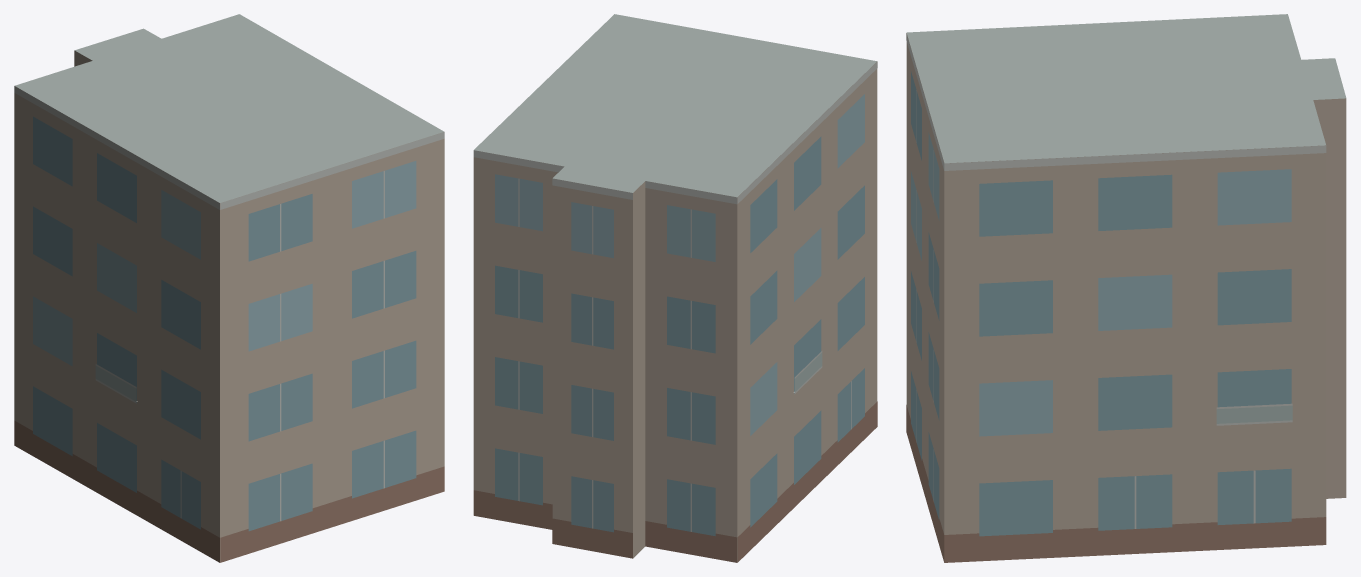
The model's file is survey-upis-32746303.glb.
The picture shows the model from 3 angles, left to right: view 1: azimuth 30°, elevation 25°; view 2: azimuth 150°, elevation 25°; view 3: azimuth 270°, elevation 25°; orthographic projection. The views are drawn at different scales.
Visible parts, largest first — view 1: survey-upis-32746303.tmp; view 2: survey-upis-32746303.tmp; view 3: survey-upis-32746303.tmp.
Part boxes in pixels (x1,y1,x2,y2): survey-upis-32746303.tmp: (14, 14, 444, 562); survey-upis-32746303.tmp: (473, 14, 877, 562); survey-upis-32746303.tmp: (906, 14, 1346, 562).
Bounding box in the file's own units: 10.19 × 12.7 × 12.69.
